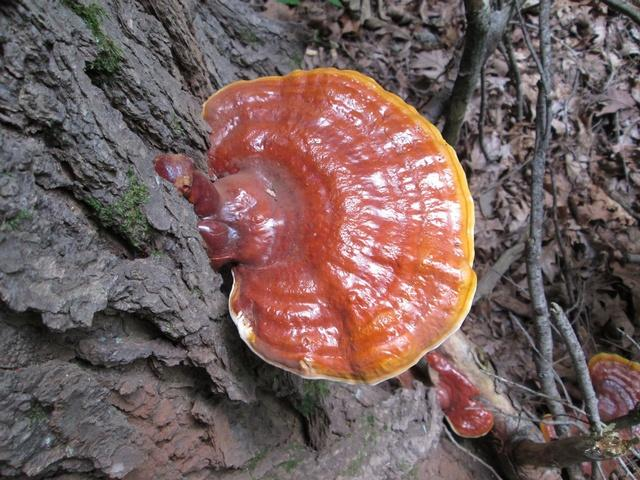Non-edible Mushroom: (152, 65, 480, 388)
